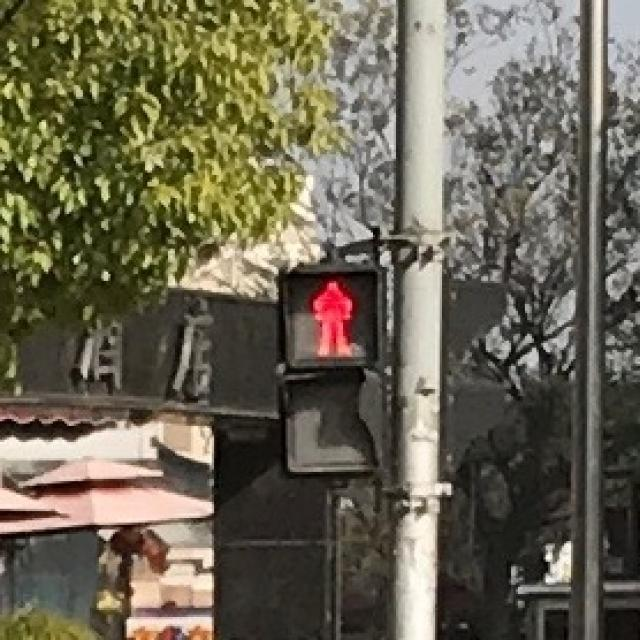red-crossing: (288, 264, 370, 364)
